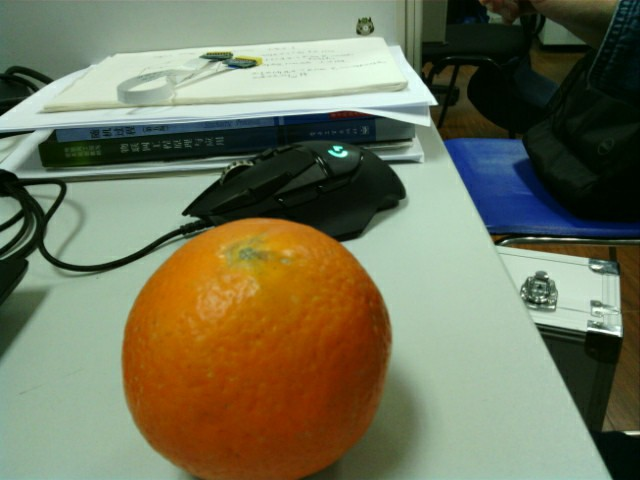normal_orange: (123, 219, 393, 480)
